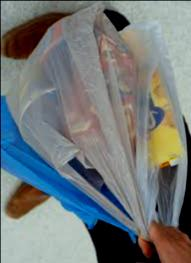Plastic: (4, 4, 190, 236)
